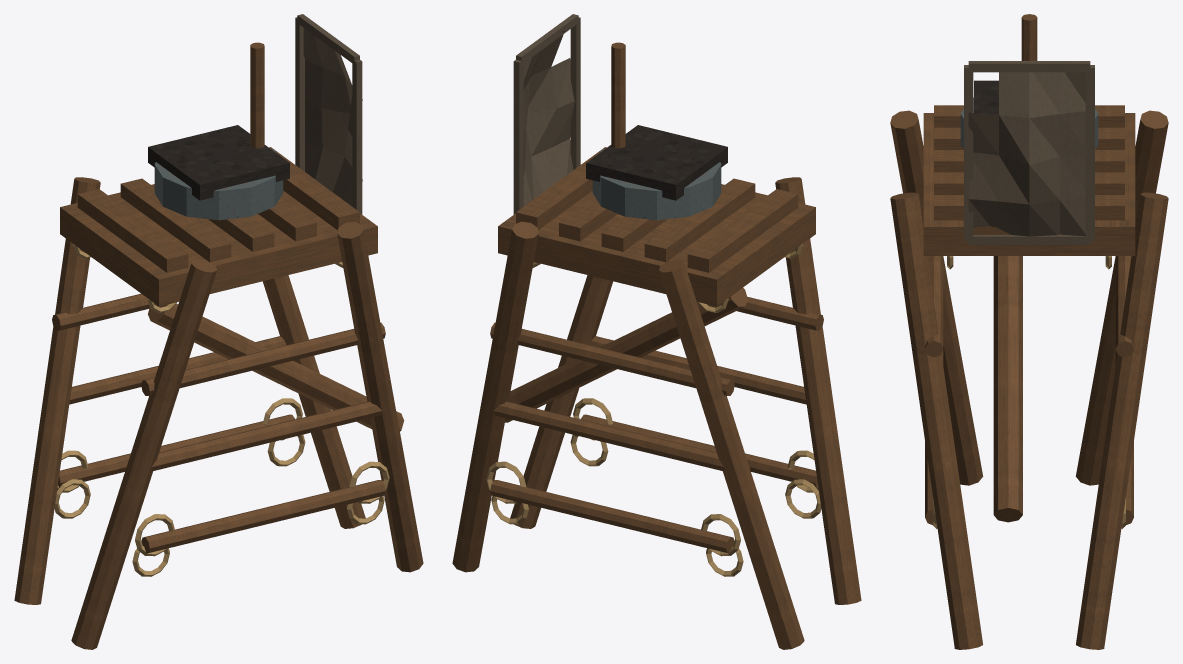
Rendered from cs-015_signal_beacon_storm_damaged.obj.
The picture shows the model from 3 angles, left to right: view 1: azimuth 30°, elevation 25°; view 2: azimuth 150°, elevation 25°; view 3: azimuth 270°, elevation 25°; orthographic projection. The views are drawn at different scales.
Parts seen in each view (by area): view 1: cs-015_signal_beacon_storm_damaged; view 2: cs-015_signal_beacon_storm_damaged; view 3: cs-015_signal_beacon_storm_damaged.
Part boxes in pixels (box(x1,y1,x2,y2)): cs-015_signal_beacon_storm_damaged: box(14, 14, 423, 649); cs-015_signal_beacon_storm_damaged: box(452, 14, 861, 649); cs-015_signal_beacon_storm_damaged: box(890, 14, 1168, 649).
Size of the model in its own units: 1.62 by 2.37 by 1.05.
5 materials, 5 textured.
